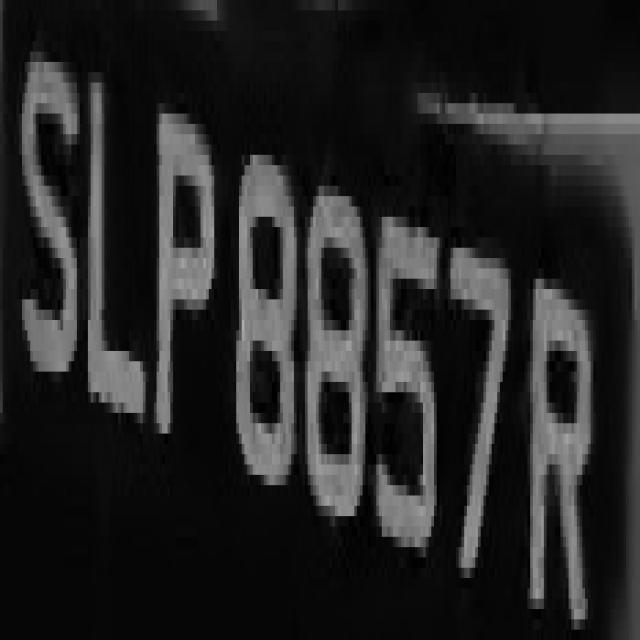5: (371, 155, 442, 568)
7: (439, 176, 511, 620)
8: (299, 145, 371, 558), (230, 113, 296, 496)
L: (82, 62, 151, 475)
P: (146, 62, 214, 454)
R: (2, 4, 3, 11)
S: (11, 21, 77, 413)
